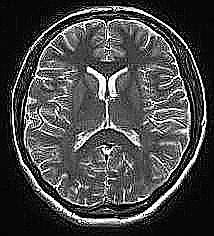Normal_Brain: (2, 2, 214, 236)
